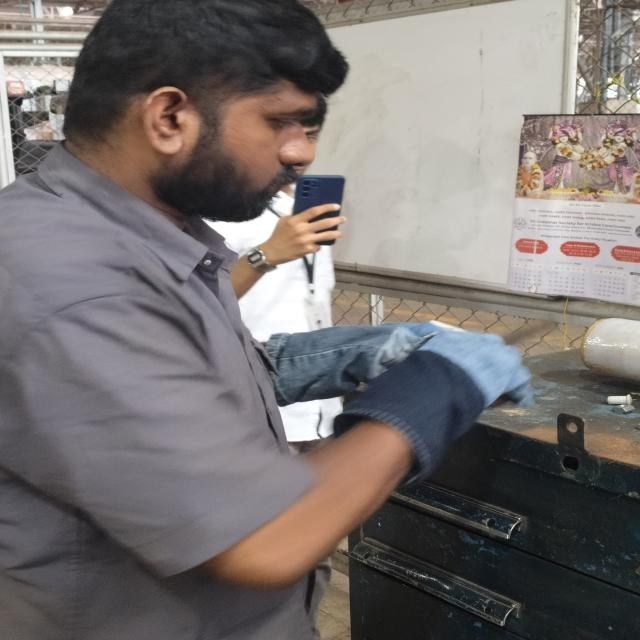Gloves-Detection: (254, 324, 540, 454)
